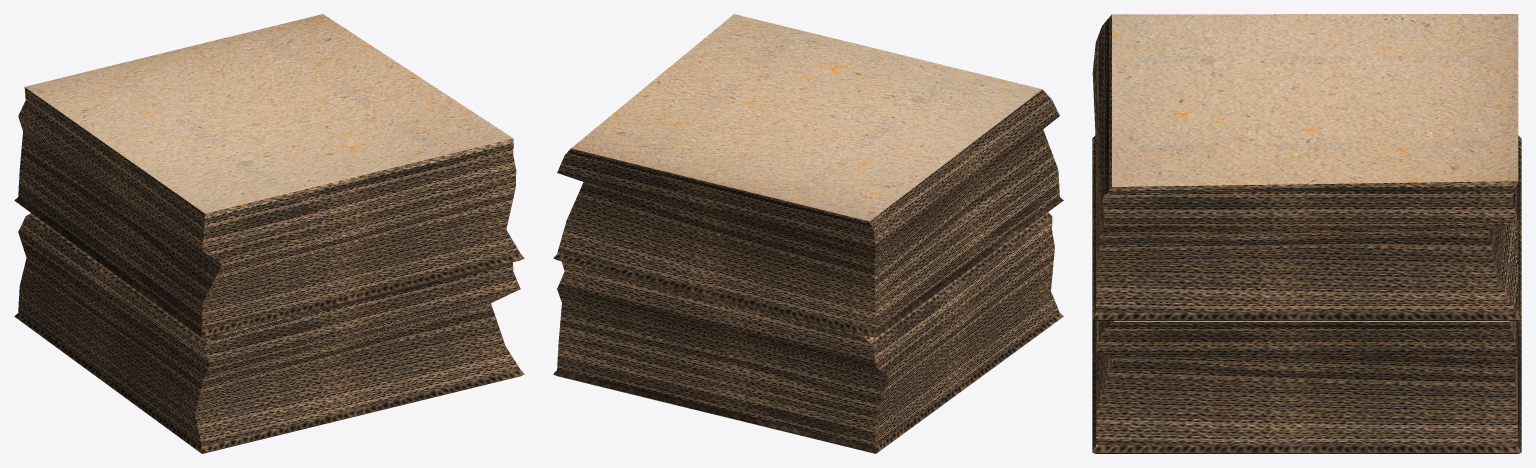
The model's file is SurroundingEnvironment_Cardbox.fbx.
The picture shows the model from 3 angles, left to right: view 1: azimuth 30°, elevation 25°; view 2: azimuth 150°, elevation 25°; view 3: azimuth 270°, elevation 25°; orthographic projection. The views are drawn at different scales.
Parts seen in each view (by area): view 1: Cardbox; view 2: Cardbox; view 3: Cardbox.
Part boxes in pixels (x1,y1,x2,y2): Cardbox: (14, 14, 524, 453); Cardbox: (553, 14, 1063, 453); Cardbox: (1092, 14, 1521, 453).
Bounding box in the file's own units: 2.27 × 1.56 × 2.27.
